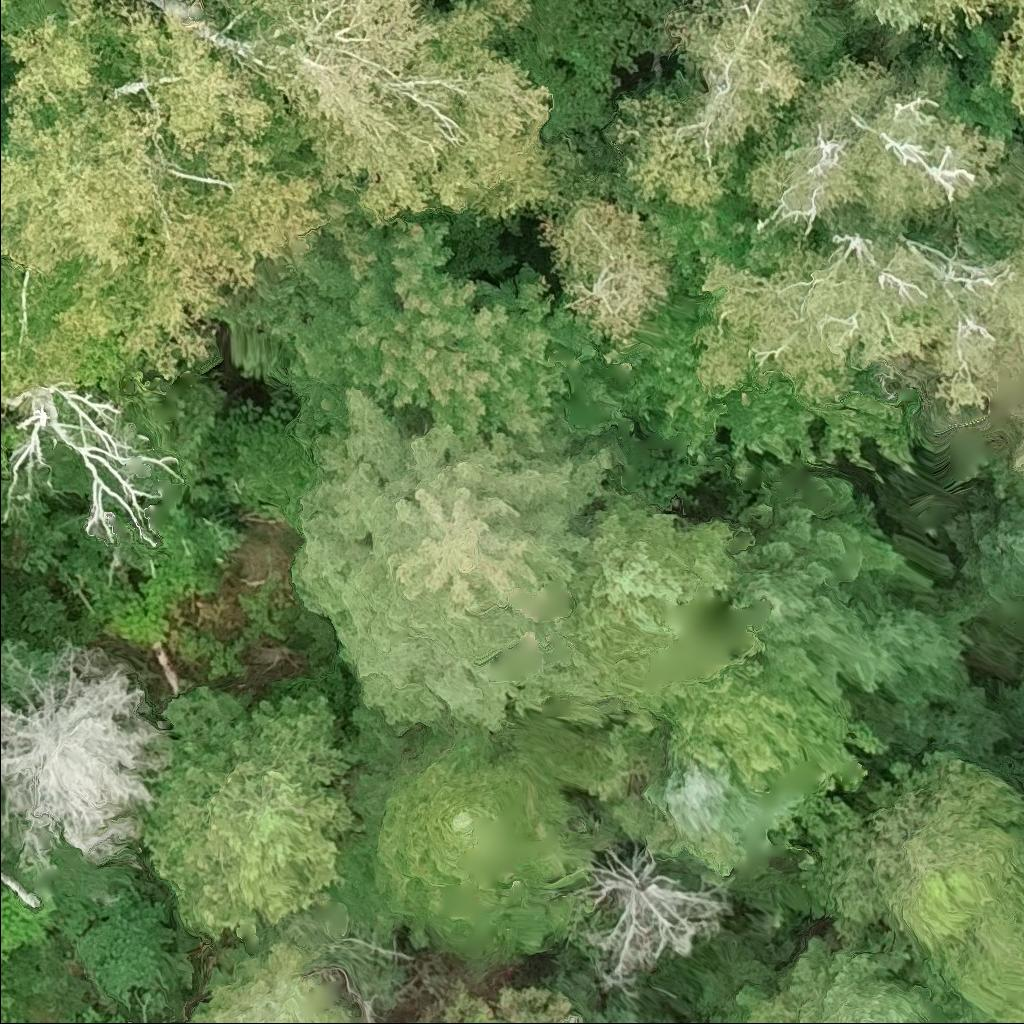crown: (0, 0, 363, 404), (290, 384, 618, 769), (215, 220, 597, 450), (594, 201, 917, 470), (213, 0, 588, 228), (692, 235, 1023, 418), (135, 683, 360, 942), (338, 731, 596, 953), (735, 54, 1010, 241), (810, 750, 1023, 959), (610, 0, 810, 209), (627, 642, 888, 795), (721, 473, 893, 702), (0, 642, 168, 865), (559, 483, 736, 693), (554, 843, 734, 988), (711, 932, 948, 1023), (853, 574, 975, 735), (537, 194, 670, 340), (918, 0, 1023, 114), (942, 486, 1023, 630), (638, 752, 755, 851), (819, 0, 927, 54), (0, 0, 58, 28), (0, 47, 7, 91)
